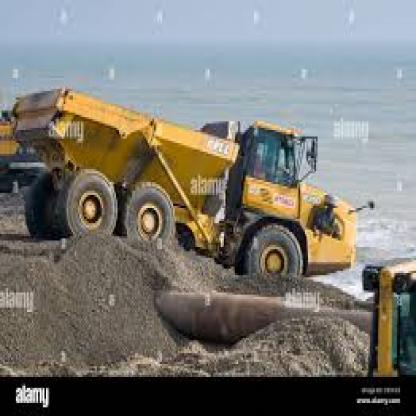dump_truck: (3, 44, 370, 314)
